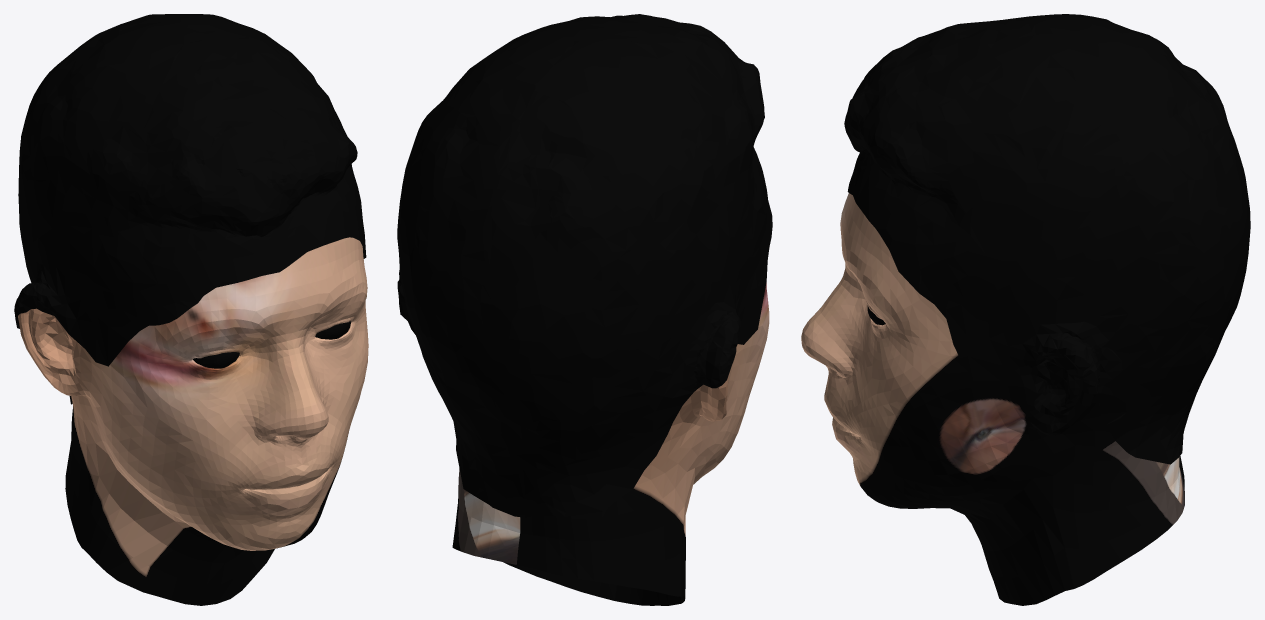
The model's file is AvinashHead.obj.
3 renders of one model, left to right at view 1: azimuth 30°, elevation 25°; view 2: azimuth 150°, elevation 25°; view 3: azimuth 270°, elevation 25°, orthographic. The views are drawn at different scales.
Size of the model in its own units: 0.1693 by 0.2794 by 0.2028.
